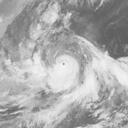cyclone: (36, 35, 95, 95)
